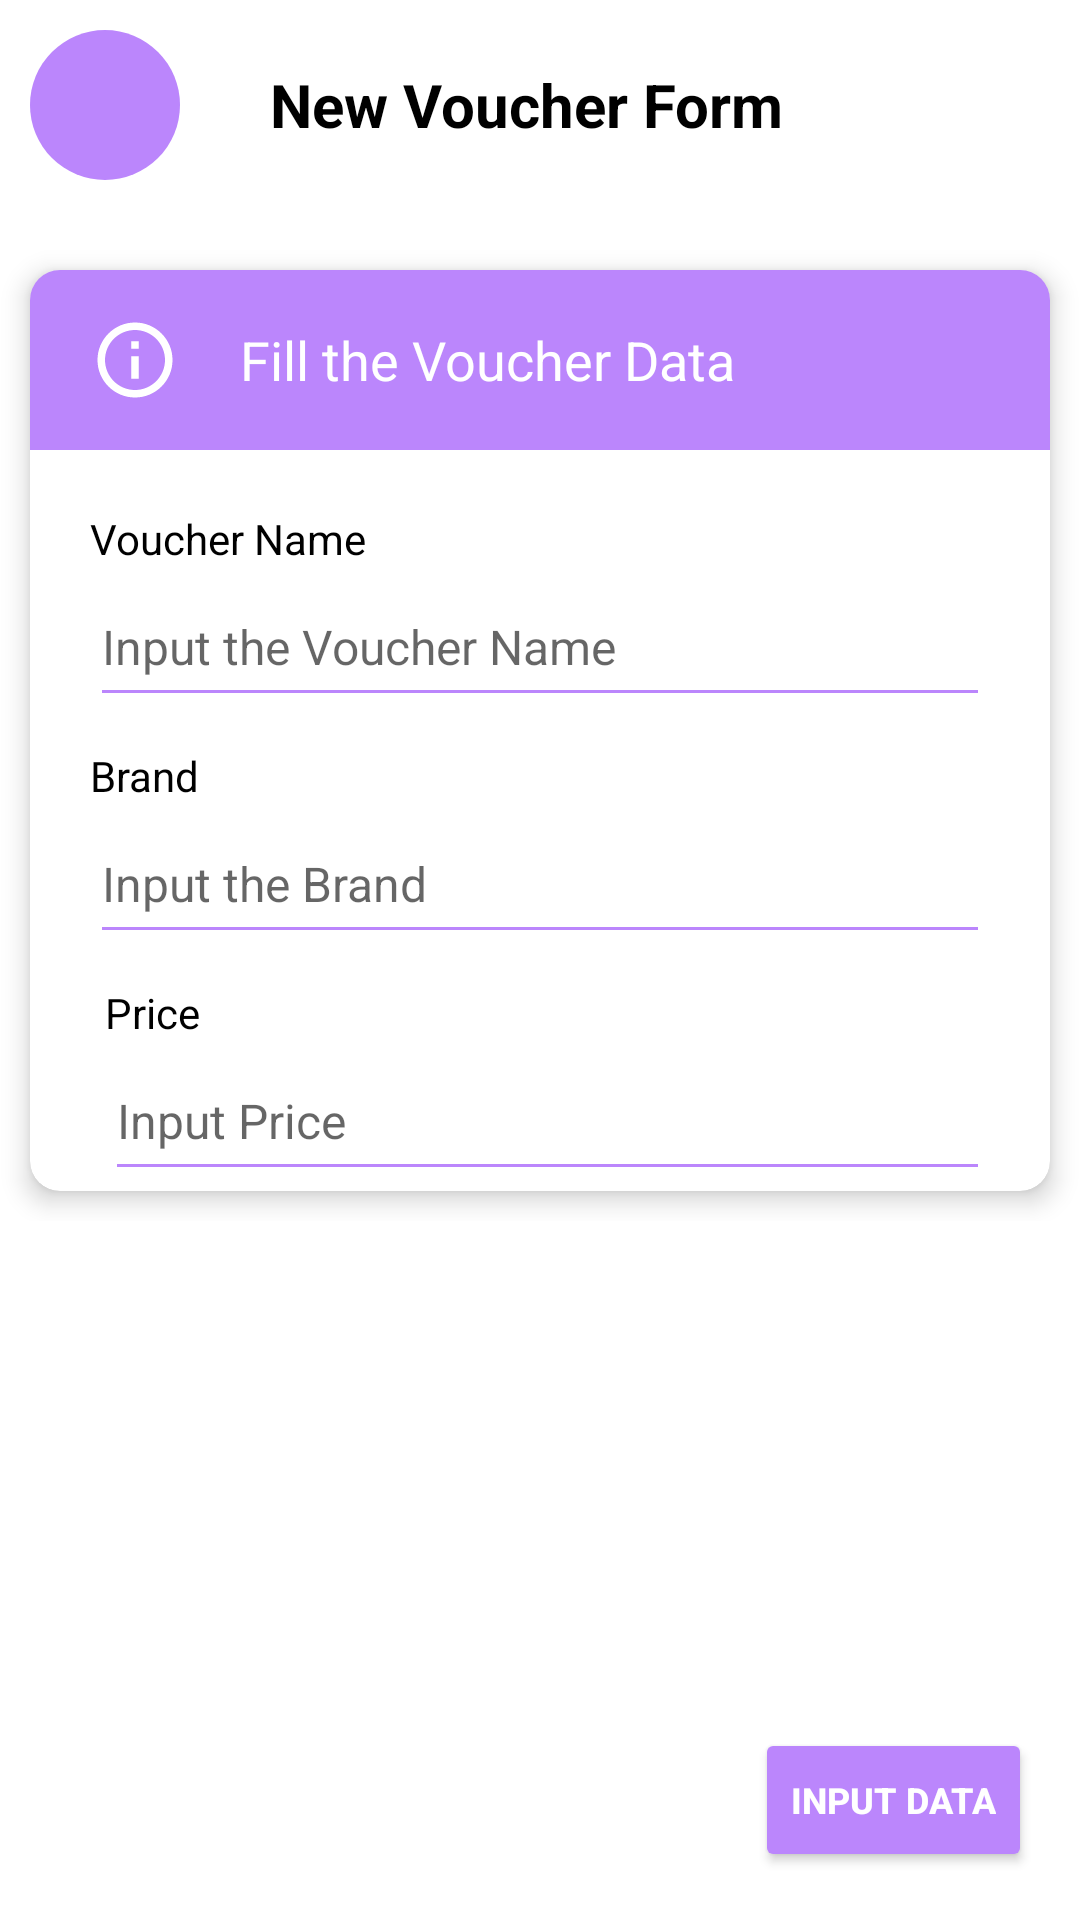

Icons on this 1080×1920 Android screen, each with the point to tap as (x=x, y=y):
info: (x=135, y=360)
